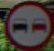No overtake: (3, 0, 48, 44)
